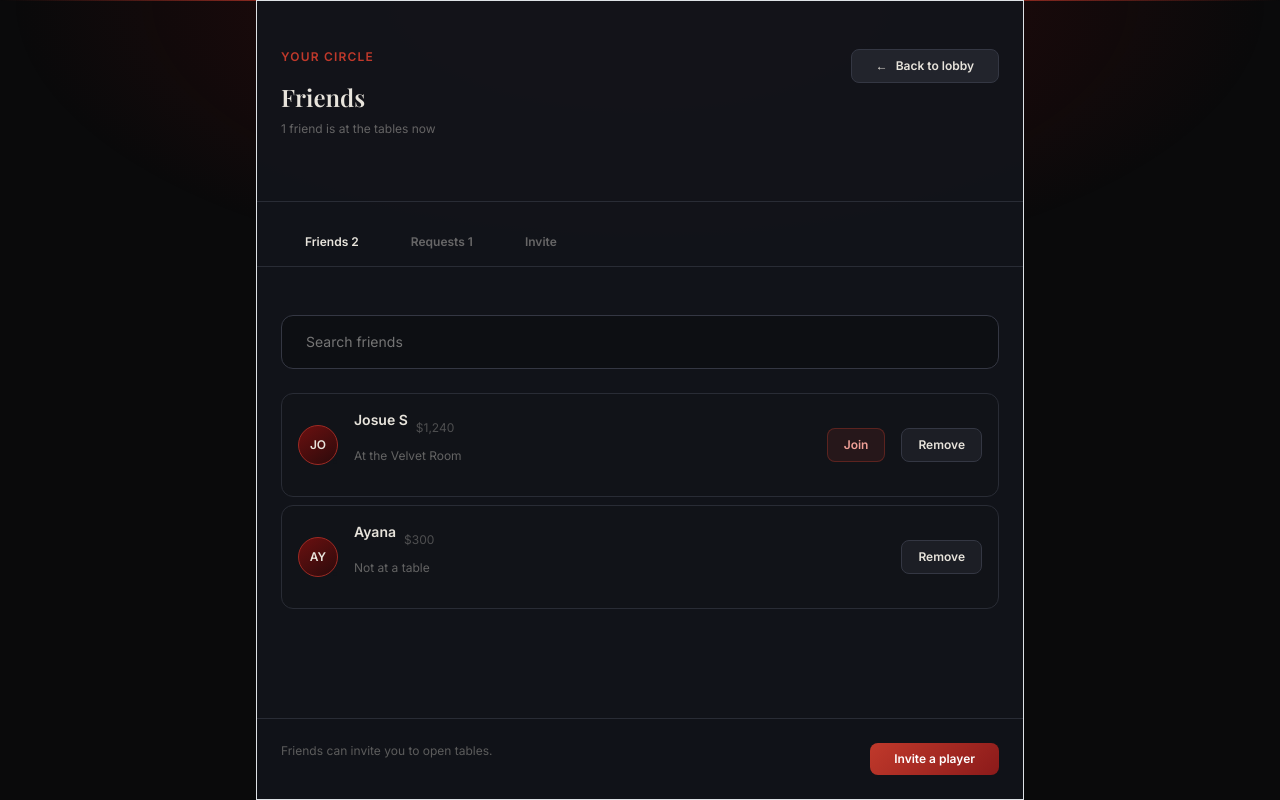
Test case: Removing a friend (P11) › Yes tells the server, takes them off the list and says so
This screenshot has width=1280, height=800.
Click the button with aria-label "Remove Ayana". click: (942, 557)
box: [901, 540, 982, 574]
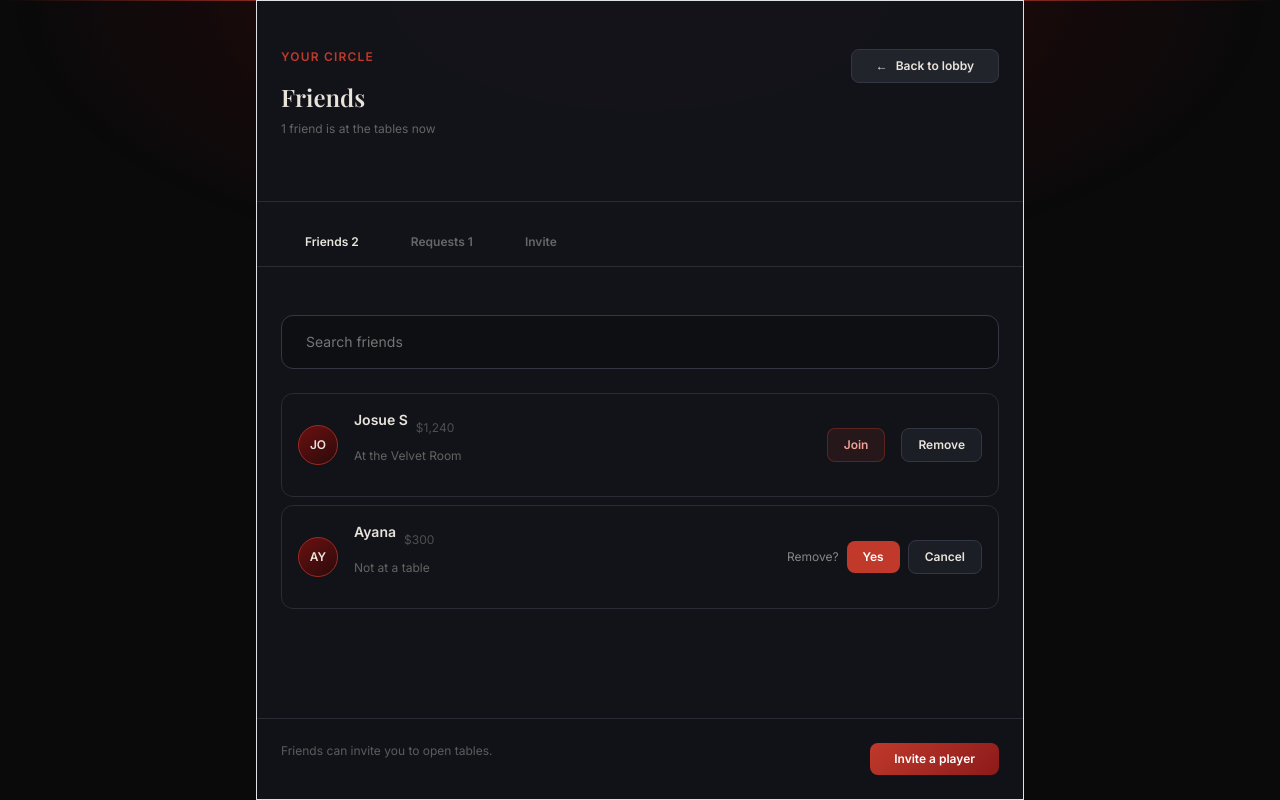
Click the button "Yes". click: (873, 557)
box: [847, 541, 900, 573]
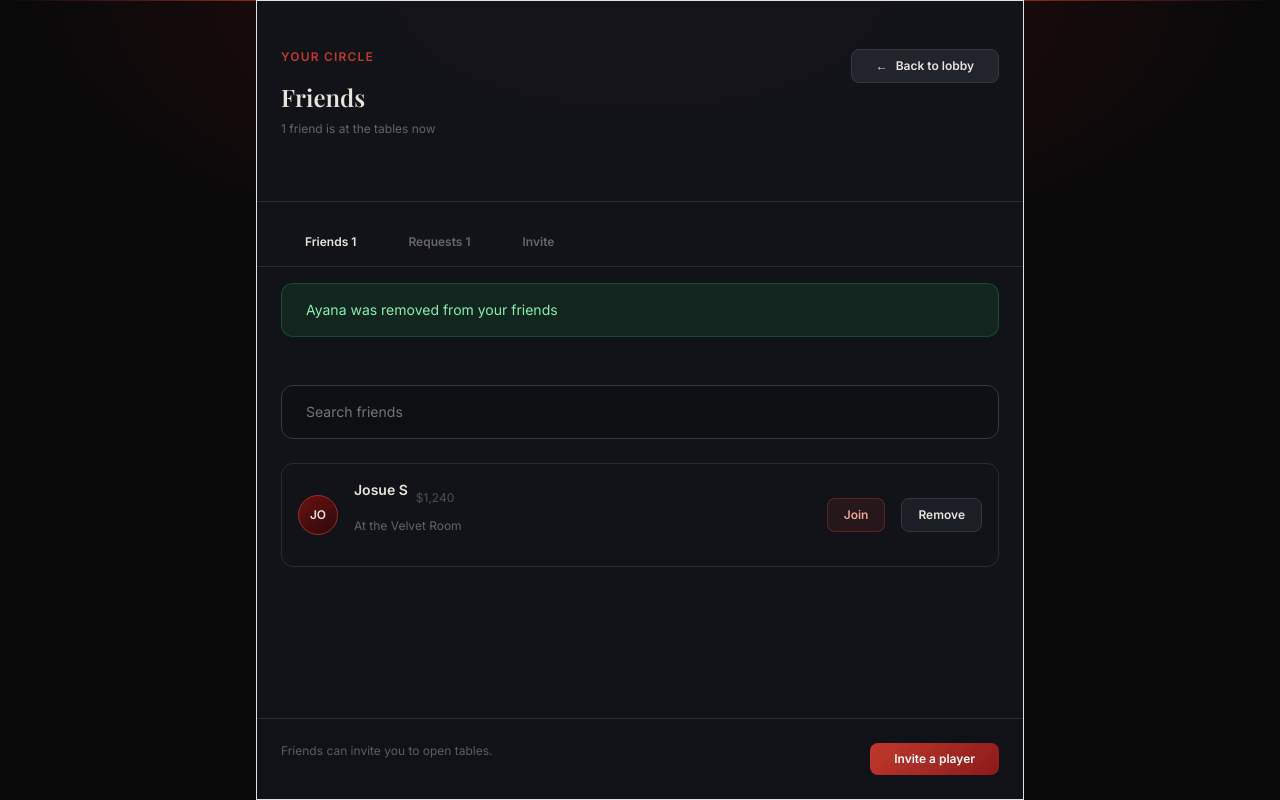
Expected: the text "Josue S" is shown, [354, 480, 408, 500]
Expected: the message reads "Ayana was removed from your friends", [306, 301, 558, 318]
